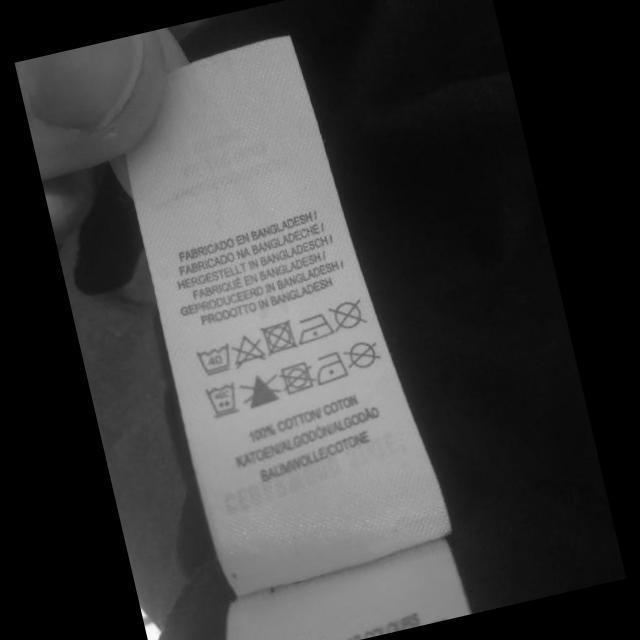40C: (202, 380, 242, 420), (193, 342, 235, 378)
DN_bleach: (235, 368, 285, 412), (227, 330, 269, 370)
DN_dry_clean: (326, 295, 369, 334), (341, 336, 385, 372)
DN_tumble_dry: (258, 318, 300, 358), (276, 358, 319, 397)
iron_low: (310, 347, 352, 387), (292, 310, 336, 346)
